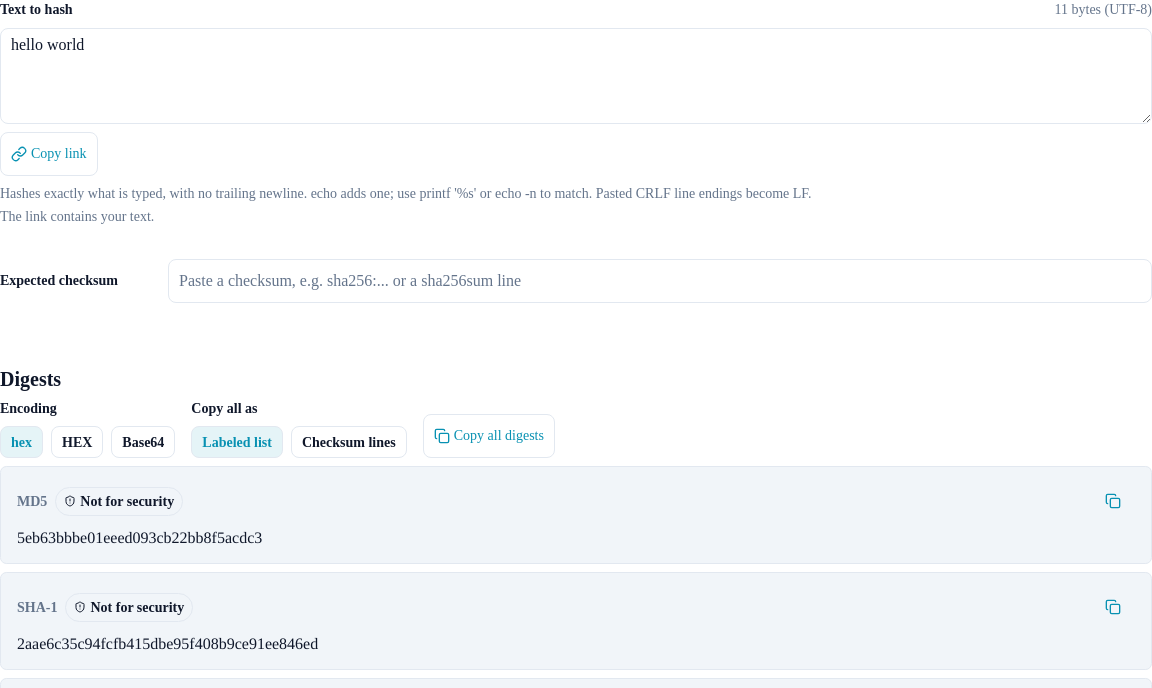
Test: HashTool live hashing (TEXT-02) › TEXT-02: a rejected start() shows the same alert and a later success removes it
Replace the text in the text box with test id "hash-input" with "a": (576, 76) [0, 28, 1151, 124]
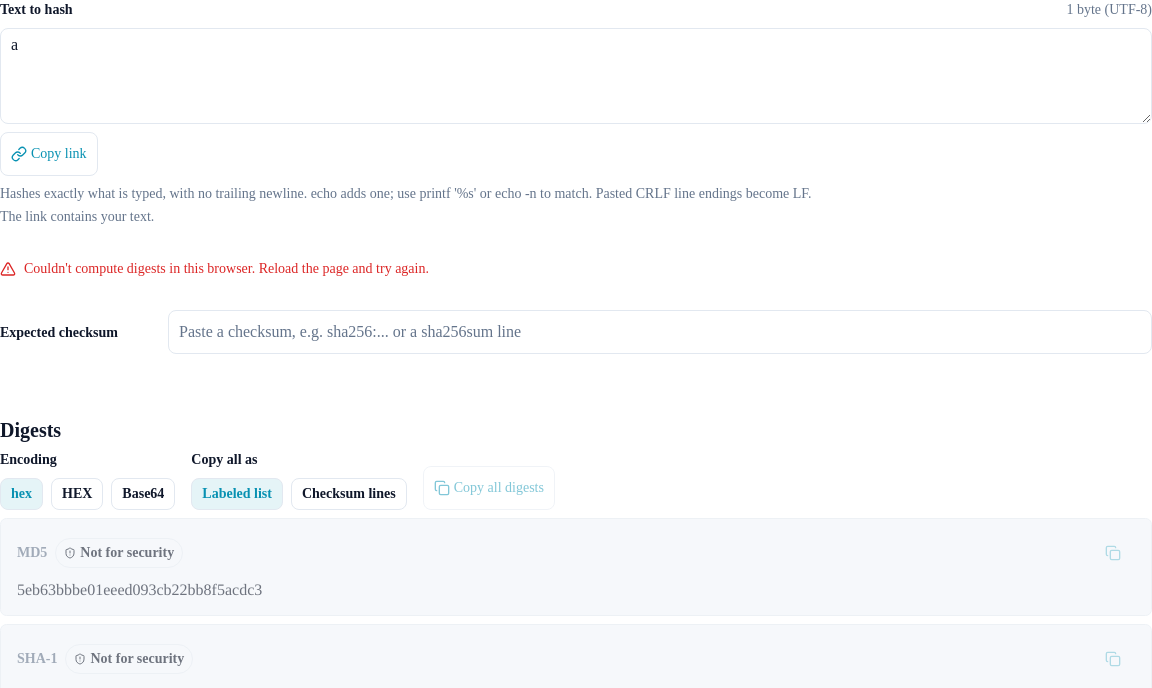
Expected: the message reads "Couldn't compute digests in this browser. Reload the page and try again.", [24, 261, 429, 276]
Replace the text in the text box with test id "hash-input" with "ab": (576, 76) [0, 28, 1151, 124]
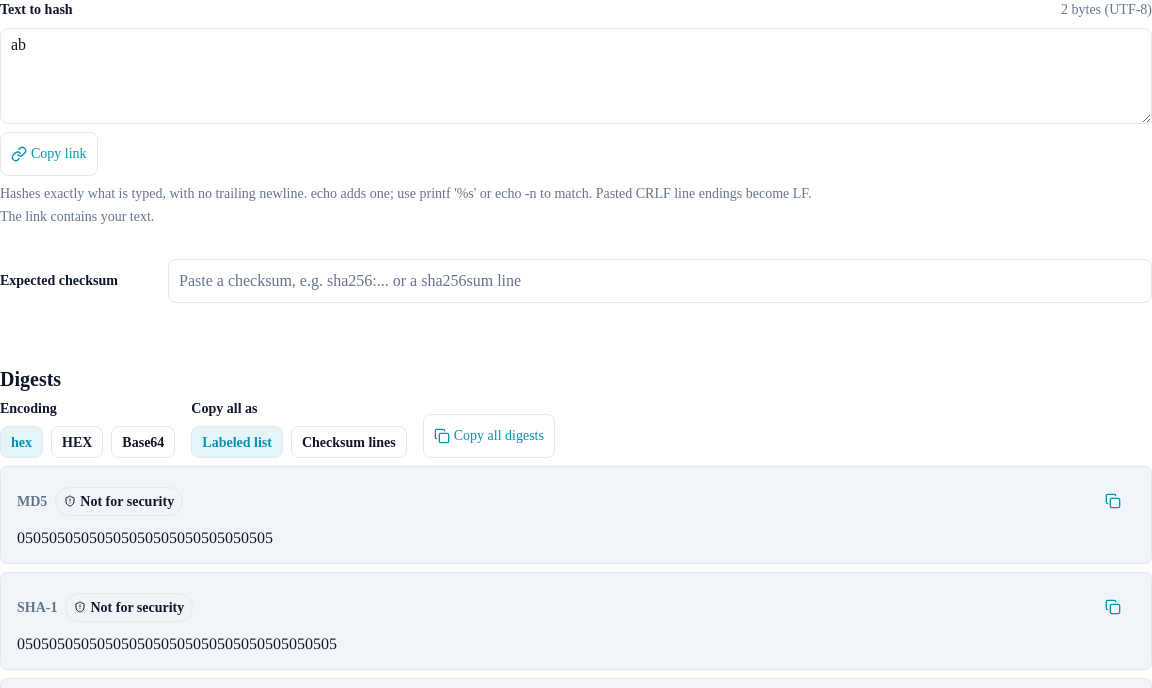
Expected: the message "Couldn't compute digests in this browser. Reload the page and try again." is gone
